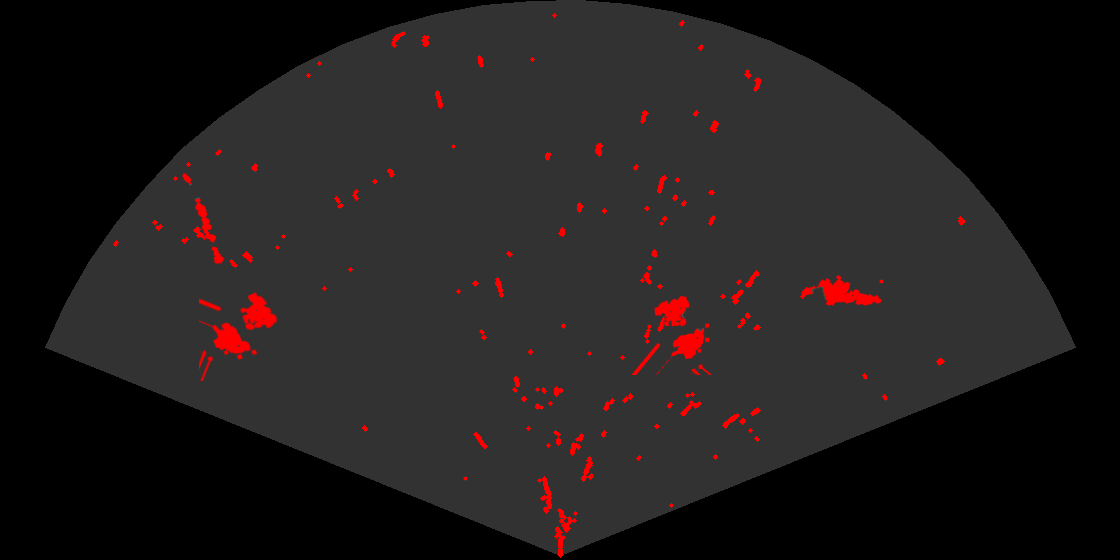cage: (199, 290, 279, 381), (632, 294, 713, 375)
chain: (181, 171, 226, 266)
frogman: (807, 273, 883, 307)
